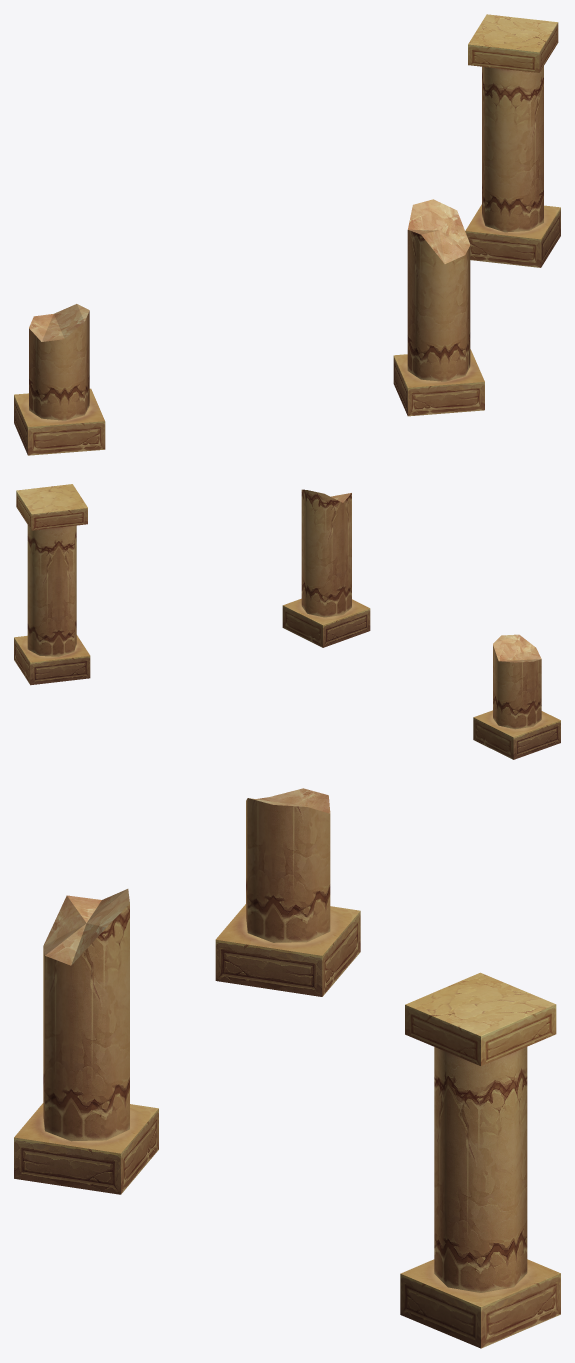
File: Area_14_36.fbx
3 views of the same model, one above another, from view 1: azimuth 30°, elevation 25°; view 2: azimuth 150°, elevation 25°; view 3: azimuth 270°, elevation 25° (orthographic). The views are drawn at different scales.
Parts seen in each view (by area): view 1: Area_14_36; view 2: Area_14_36; view 3: Area_14_36.
Boxes of the visible parts, x1=… form: Area_14_36: x1=14, y1=14, x2=560, y2=455; Area_14_36: x1=14, y1=484, x2=560, y2=759; Area_14_36: x1=14, y1=788, x2=560, y2=1348.
Bounding box in the file's own units: 1222 × 434 × 654.
